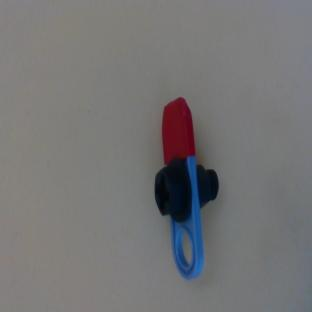part_1_good: (149, 96, 223, 280)
